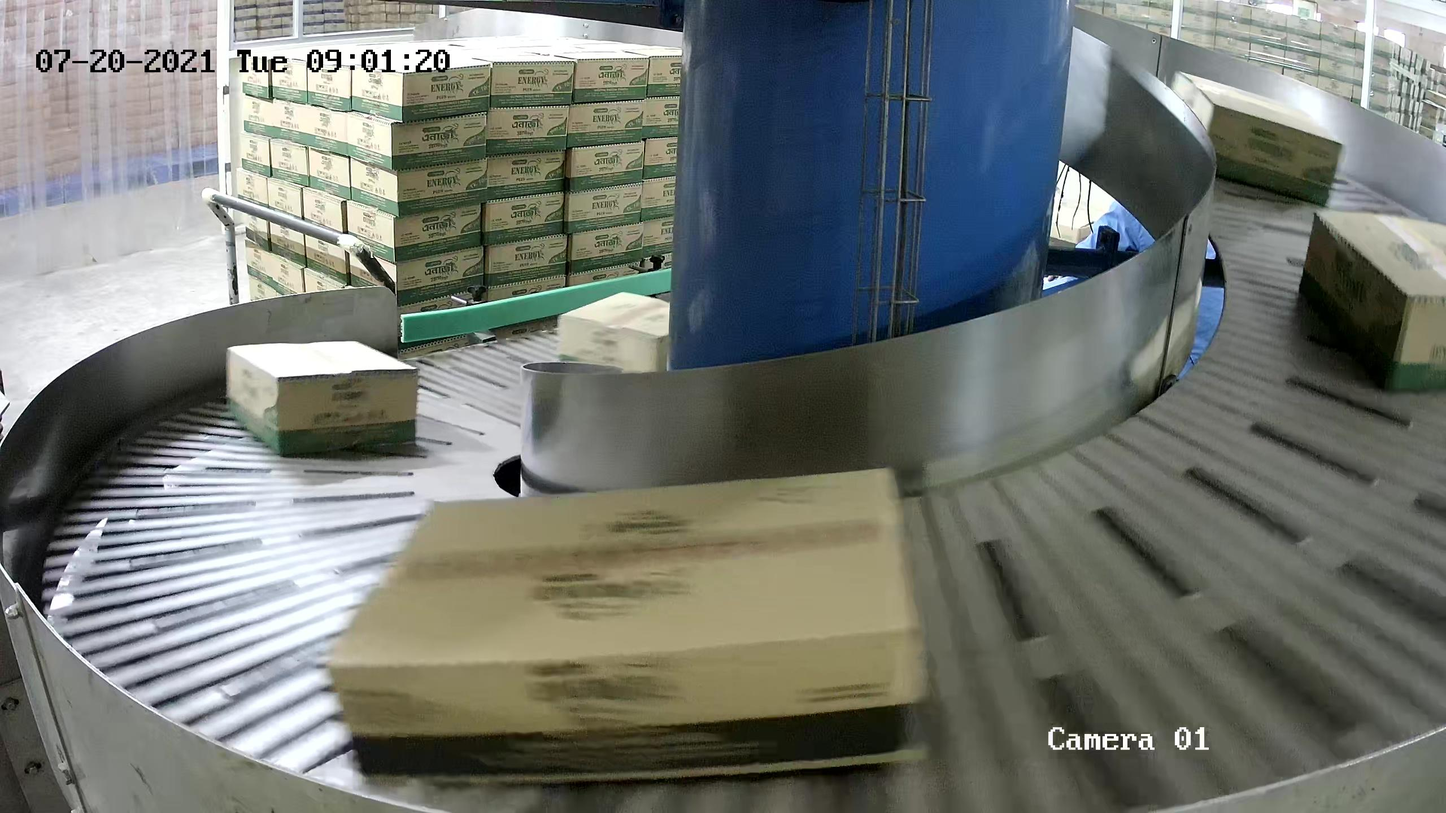Box: (328, 466, 926, 786), (1298, 210, 1446, 398), (1160, 69, 1343, 206), (224, 339, 420, 460), (558, 291, 694, 393)
